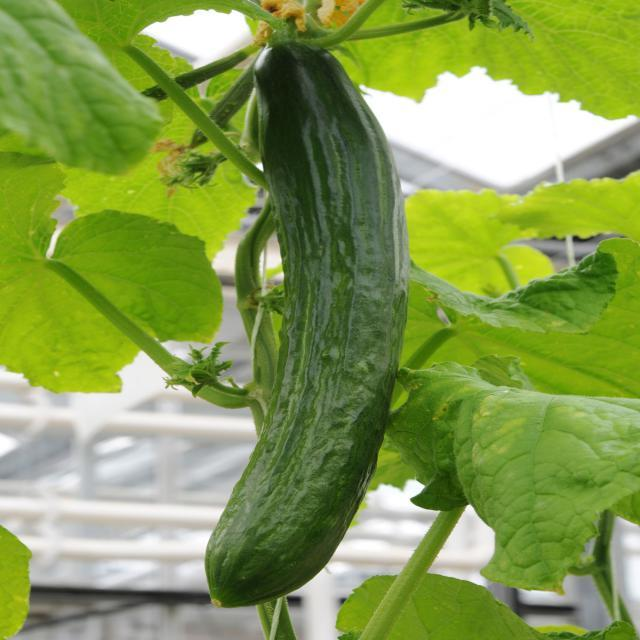cucumber: (200, 34, 415, 612)
